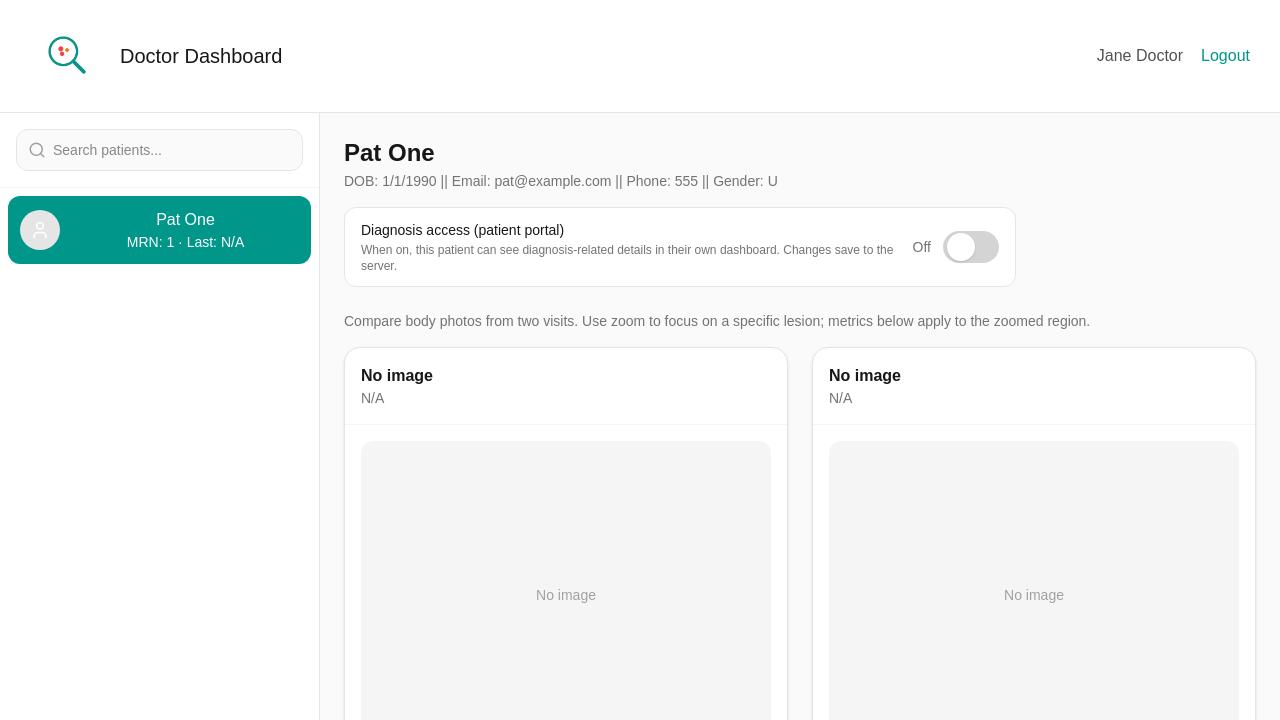
Scenario: DoctorDashboard › diagnosis access toggle › shows server error when PATCH fails
The width and height of the screenshot is (1280, 720).
Check: the heading "Pat One" is shown, box [344,139,435,166]
Step 1. Click the switch named "toggle diagnosis access for patient portal" → x=971, y=247, box [943,231,999,263]
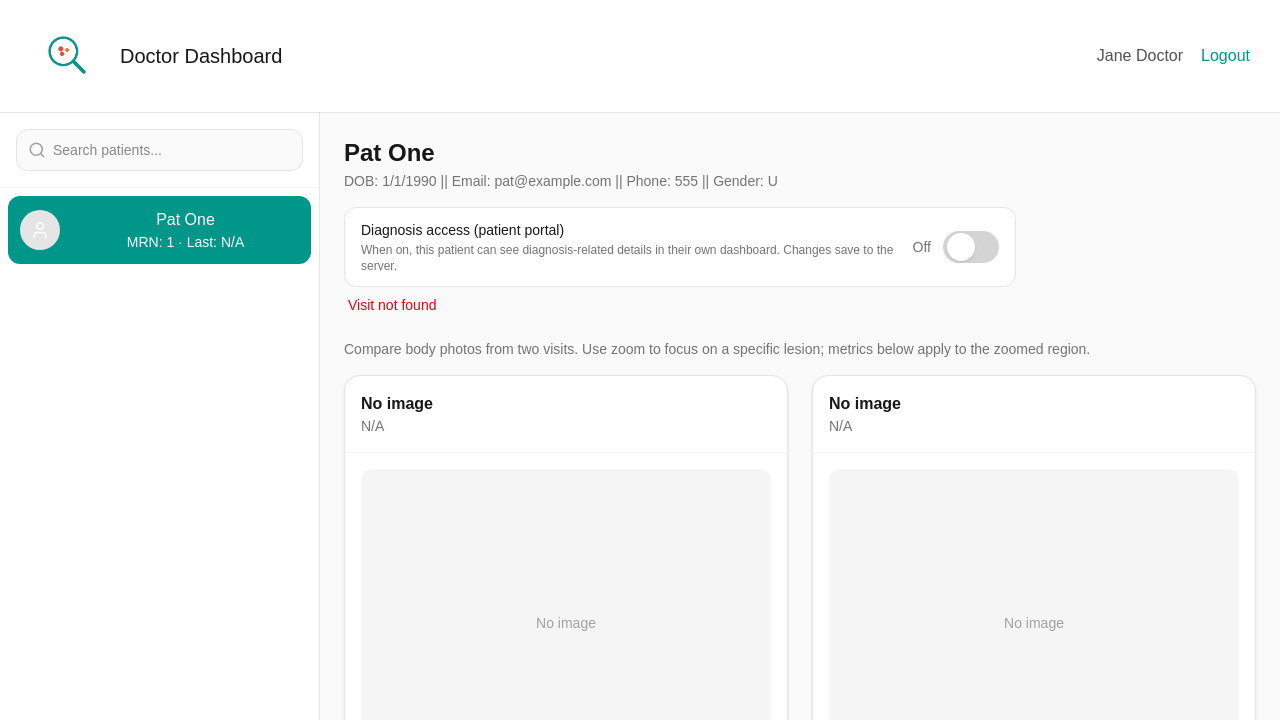
Check: the message reads "Visit not found", box [348,297,436,313]
